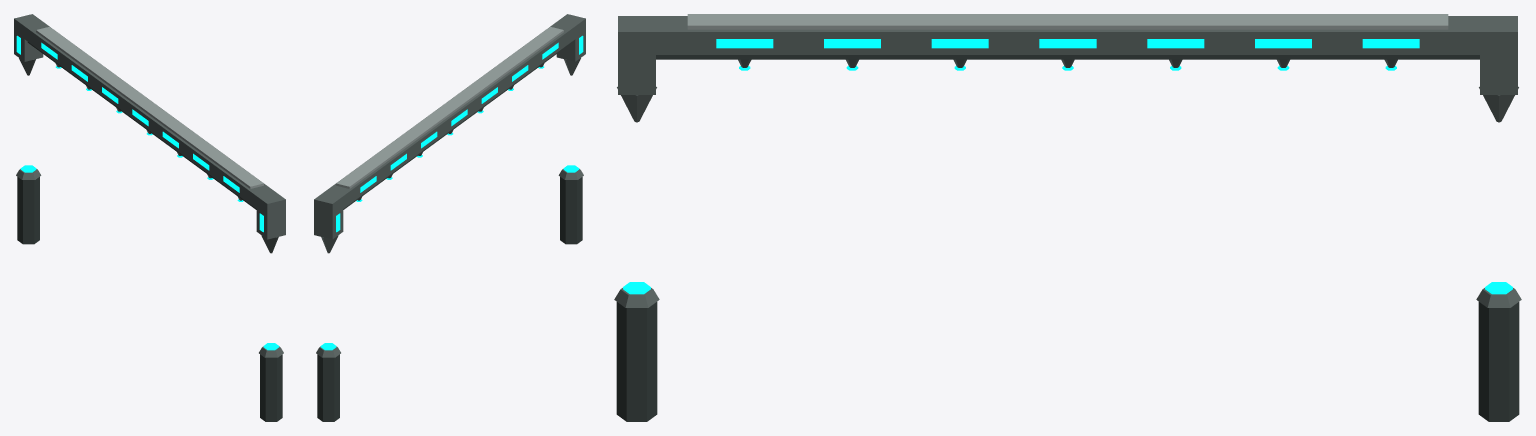
File: entrega.glb
3 views of the same model, side by side, from view 1: azimuth 30°, elevation 25°; view 2: azimuth 150°, elevation 25°; view 3: azimuth 270°, elevation 25° (orthographic). The views are drawn at different scales.
Parts seen in each view (by area): view 1: entrega; view 2: entrega; view 3: entrega.
Part boxes in pixels (box(x1,y1,x2,y2)): entrega: box(14, 14, 285, 421); entrega: box(314, 14, 585, 421); entrega: box(614, 14, 1521, 421).
Size of the model in its own units: 6.45 by 68.7 by 143.
